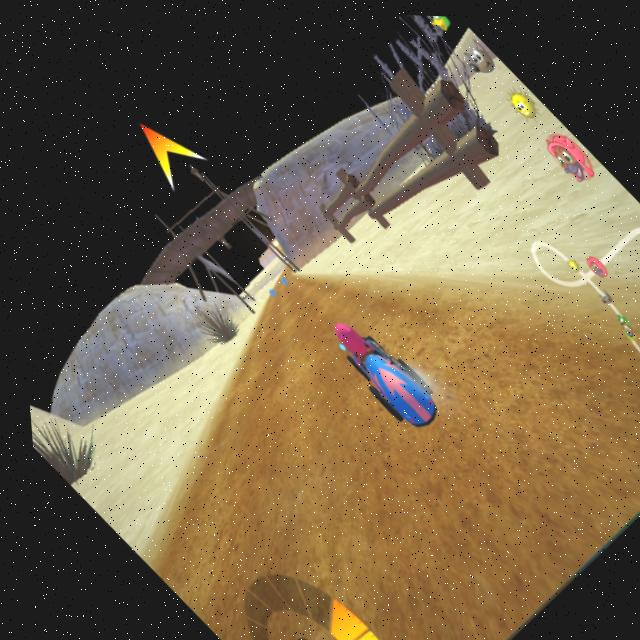bonus: (270, 269, 286, 286), (260, 282, 274, 295)
off_track: (324, 84, 551, 298), (42, 324, 249, 519)
player_kart: (306, 300, 453, 447)
track: (162, 357, 390, 574), (244, 272, 341, 367)
